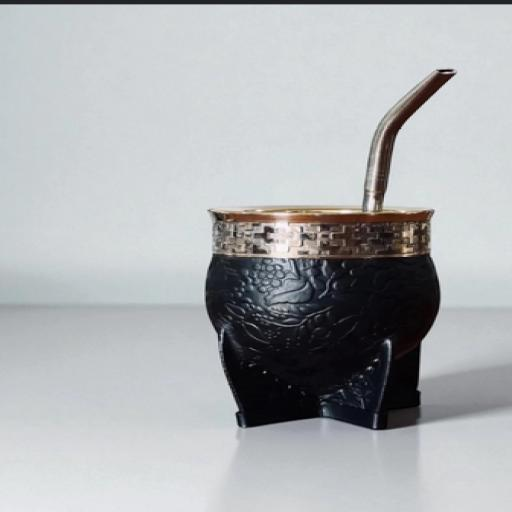mate: (206, 71, 455, 428)
